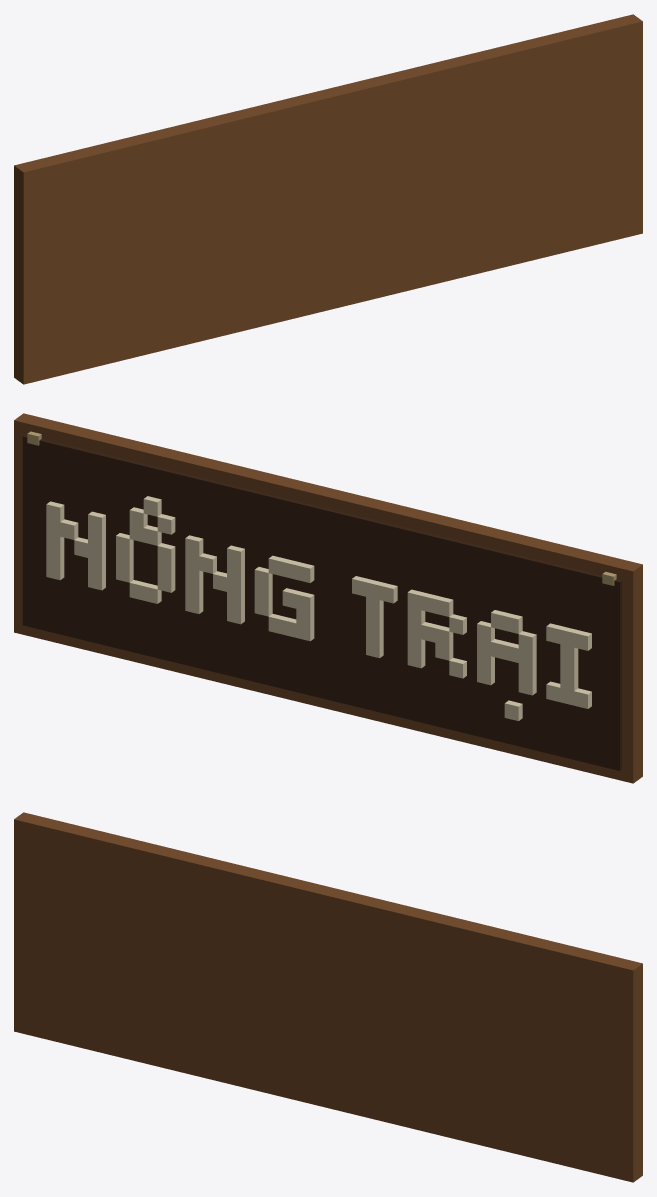
The model's file is tt-sign-nong-trai.glb.
3 renders of one model, top to bottom at view 1: azimuth 30°, elevation 25°; view 2: azimuth 150°, elevation 25°; view 3: azimuth 330°, elevation 25°, orthographic.
Parts seen in each view (by area): view 1: box-prop; view 2: box-prop; view 3: box-prop.
Part boxes in pixels (x1,y1,x2,y2): box-prop: (14, 14, 642, 384); box-prop: (14, 413, 642, 783); box-prop: (14, 812, 642, 1182).
Size of the model in its own units: 4.46 by 1.46 by 0.2.
